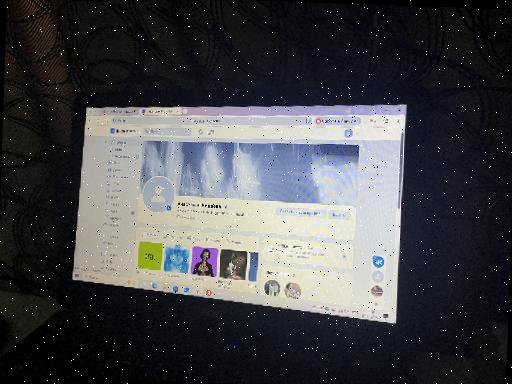vk: (71, 118, 403, 310)
